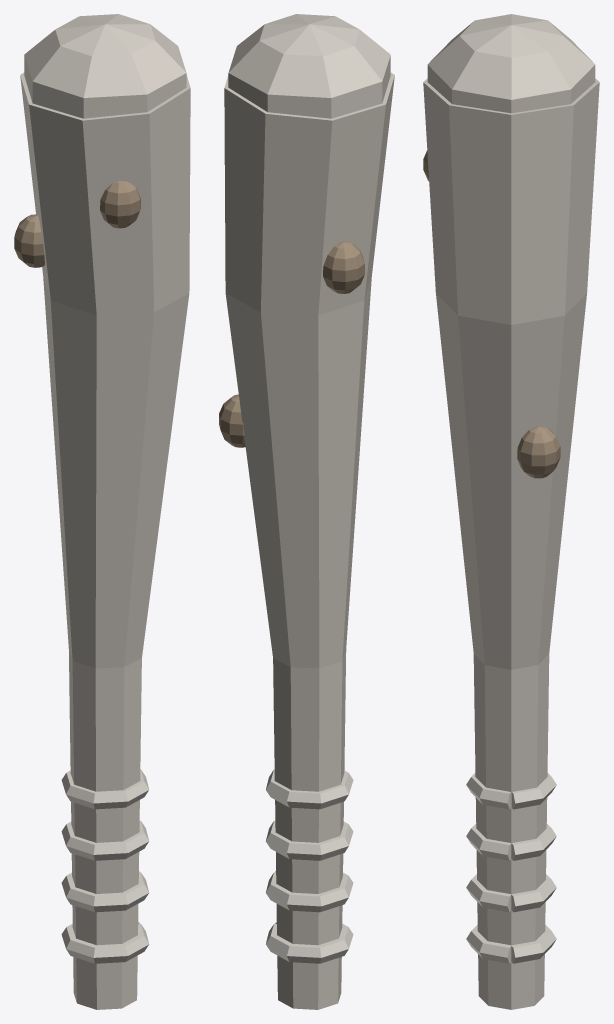
Rendered from WoodClub.fbx.
3 renders of one model, left to right at view 1: azimuth 30°, elevation 25°; view 2: azimuth 150°, elevation 25°; view 3: azimuth 270°, elevation 25°, orthographic.
Parts seen in each view (by area): view 1: Prop_WoodClub; view 2: Prop_WoodClub; view 3: Prop_WoodClub.
Boxes of the visible parts, x1,y1,x2,y2 form: Prop_WoodClub: (14, 14, 190, 1009); Prop_WoodClub: (219, 14, 394, 1009); Prop_WoodClub: (423, 14, 599, 1009).
Size of the model in its own units: 0.1399 by 0.85 by 0.14.
